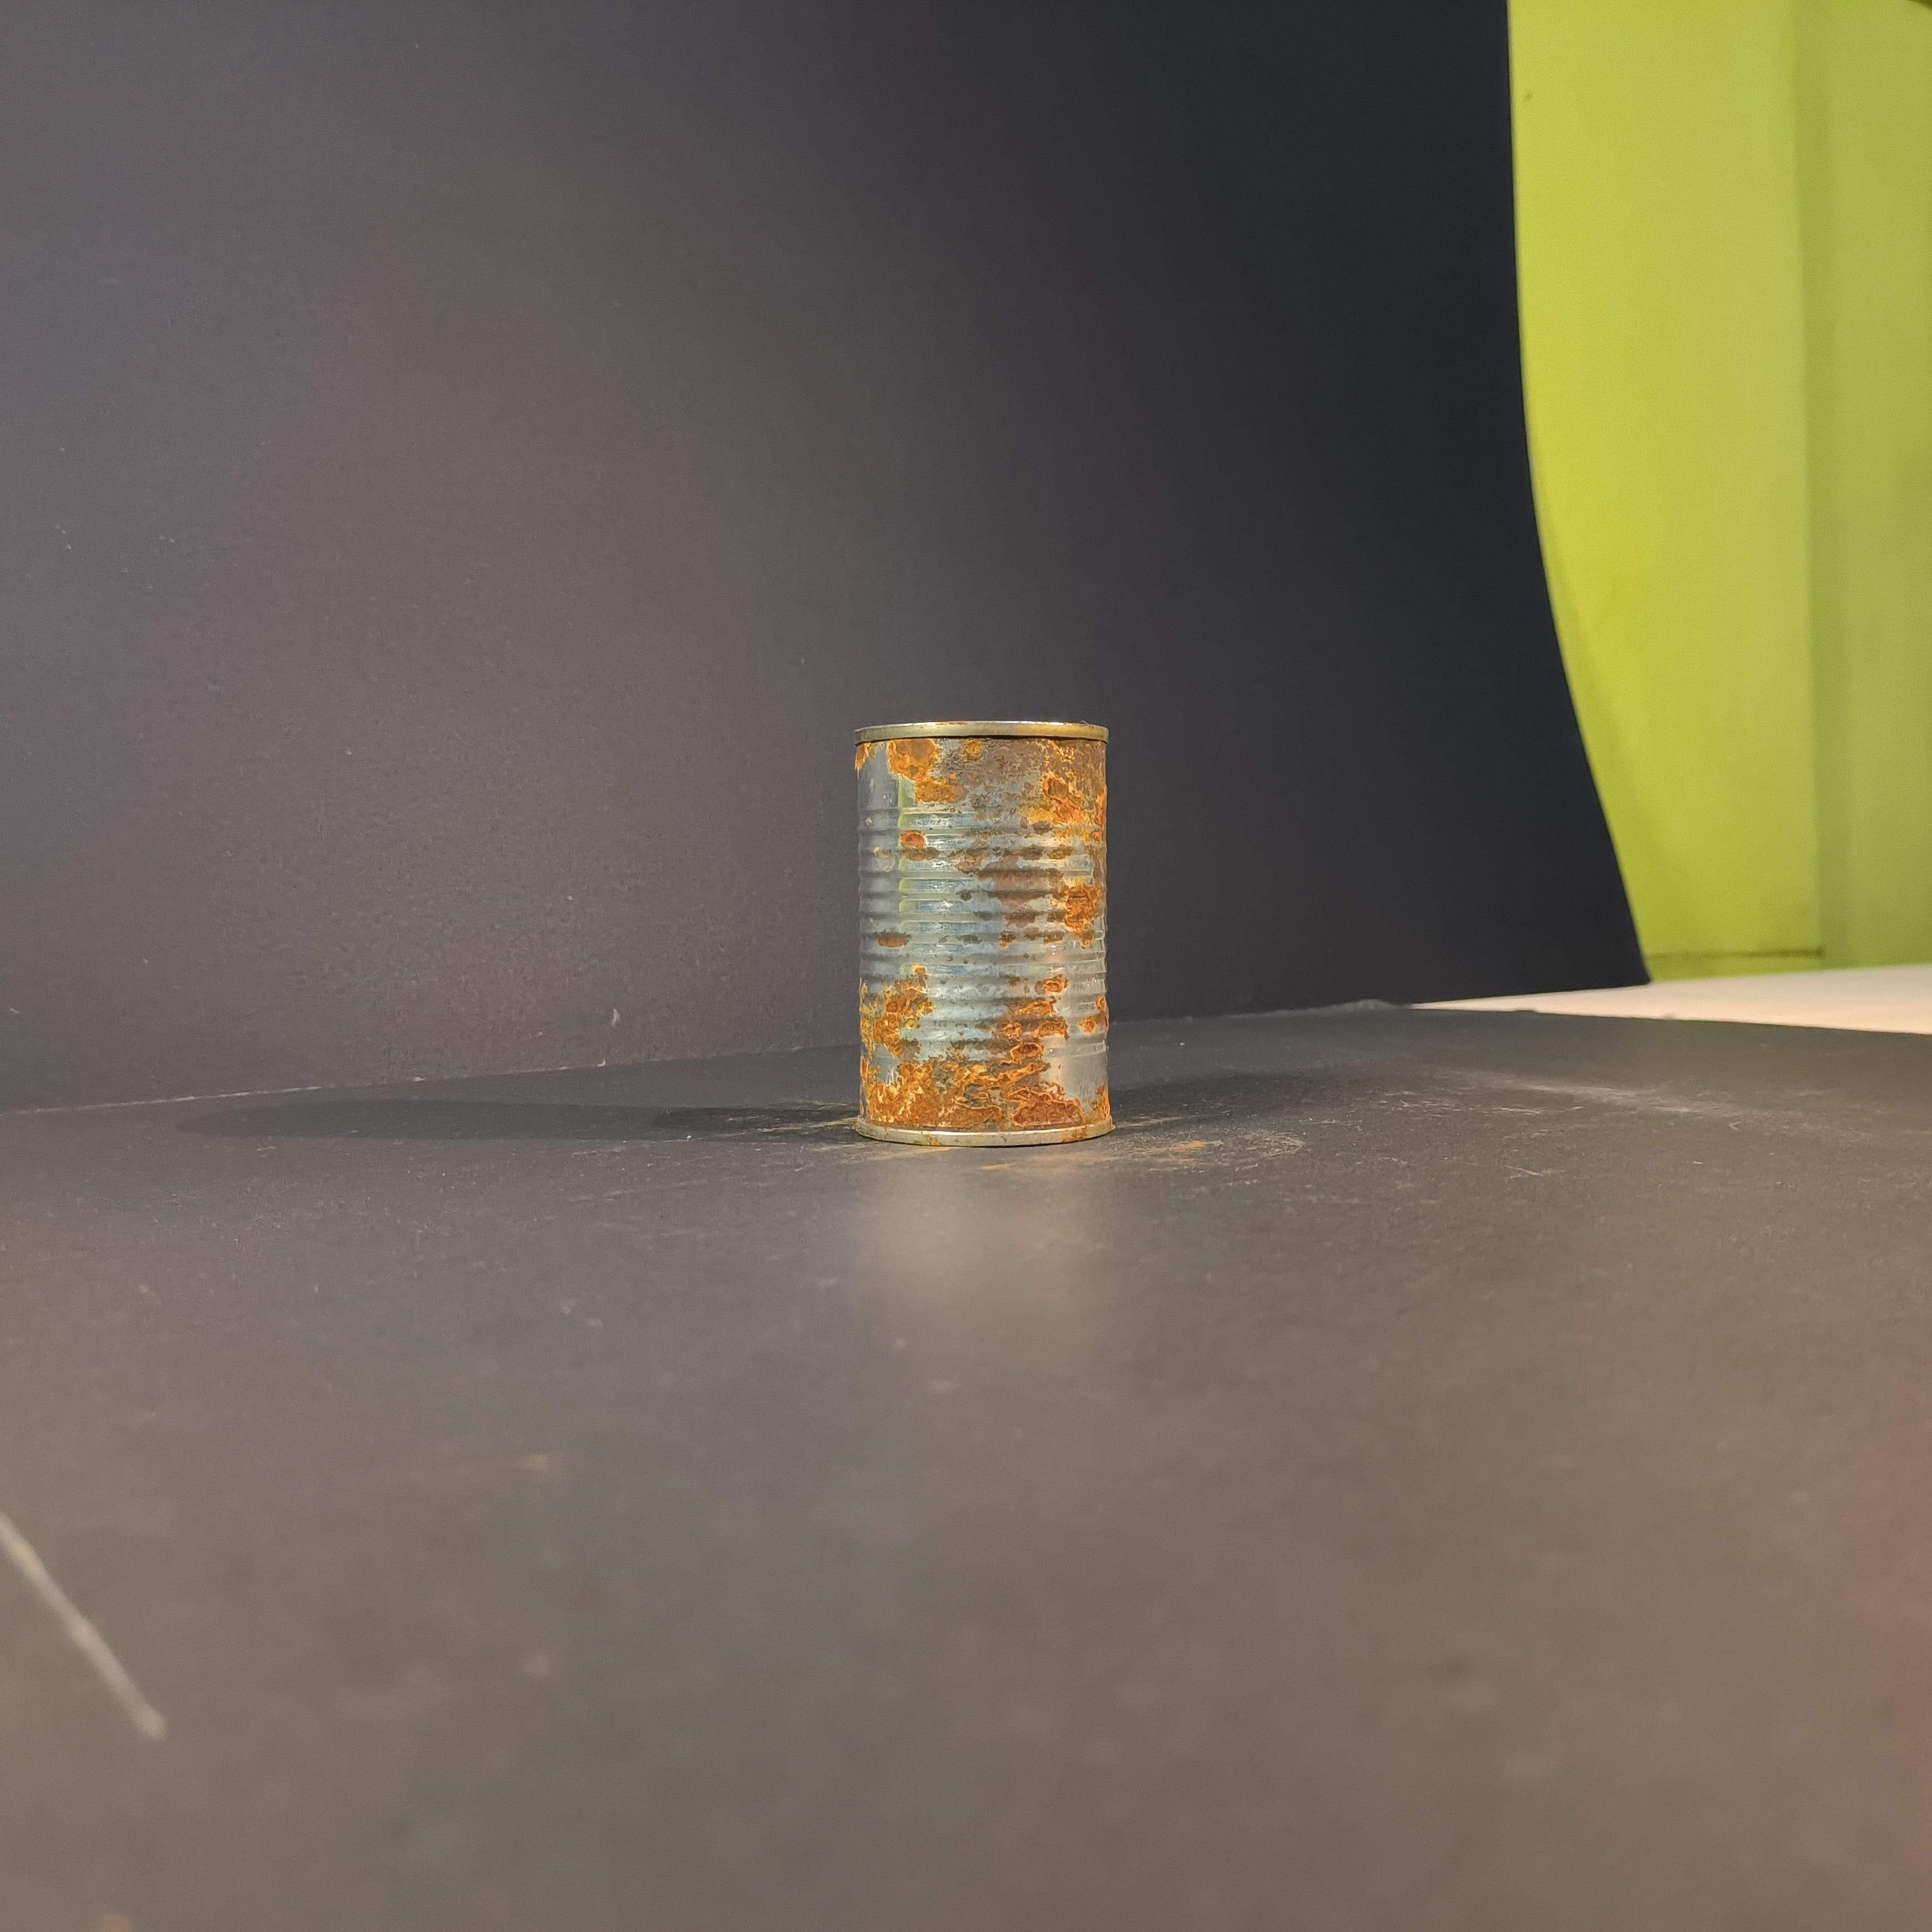Rusted: (835, 690, 1148, 1175)
